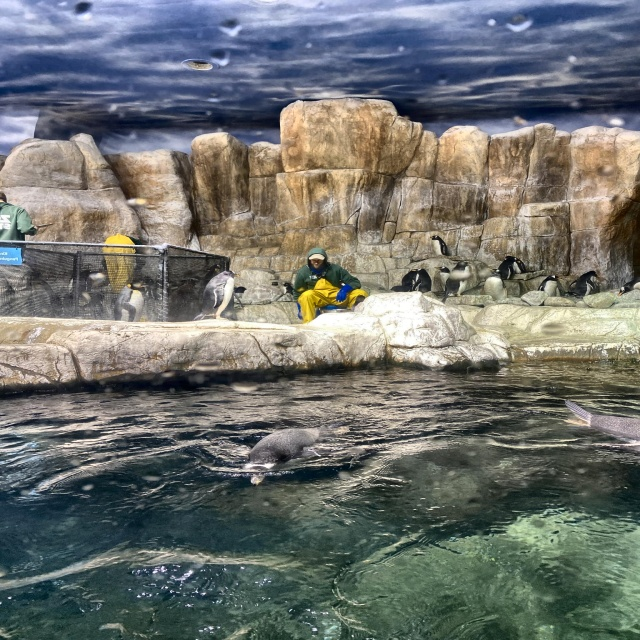penguin: (245, 420, 344, 484), (560, 394, 639, 450), (198, 268, 245, 326), (113, 278, 152, 324), (443, 255, 480, 303), (565, 270, 600, 301), (534, 272, 562, 301), (410, 265, 435, 296), (435, 261, 455, 298), (506, 250, 535, 275), (492, 256, 515, 284), (428, 233, 451, 260), (614, 275, 639, 299)
